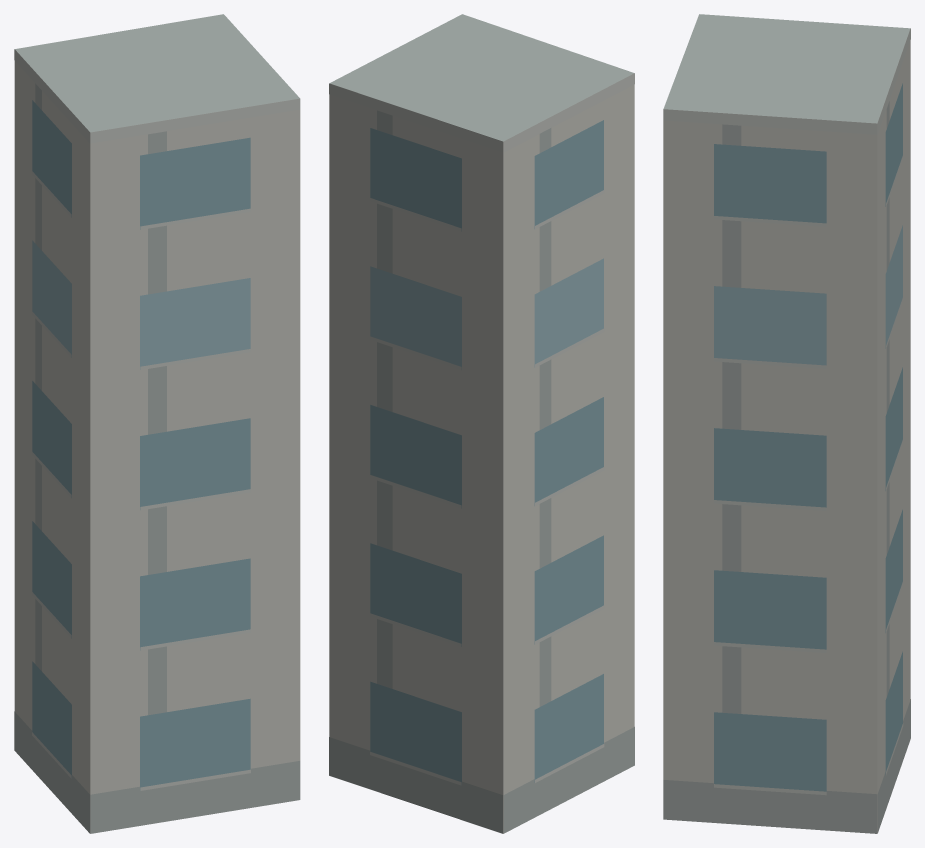
The model's file is survey-upis-32697094.glb.
3 renders of one model, left to right at view 1: azimuth 30°, elevation 25°; view 2: azimuth 150°, elevation 25°; view 3: azimuth 270°, elevation 25°, orthographic. The views are drawn at different scales.
Visible parts, largest first — view 1: survey-upis-32697094.tmp; view 2: survey-upis-32697094.tmp; view 3: survey-upis-32697094.tmp.
Boxes of the visible parts, x1,y1,x2,y2 form: survey-upis-32697094.tmp: [14, 14, 300, 833]; survey-upis-32697094.tmp: [329, 14, 634, 833]; survey-upis-32697094.tmp: [663, 14, 910, 833].
Size of the model in its own units: 5.05 by 15.25 by 4.82.
